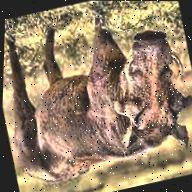boar: (3, 4, 192, 192)
